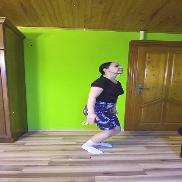high_jumps: (76, 56, 138, 159)
